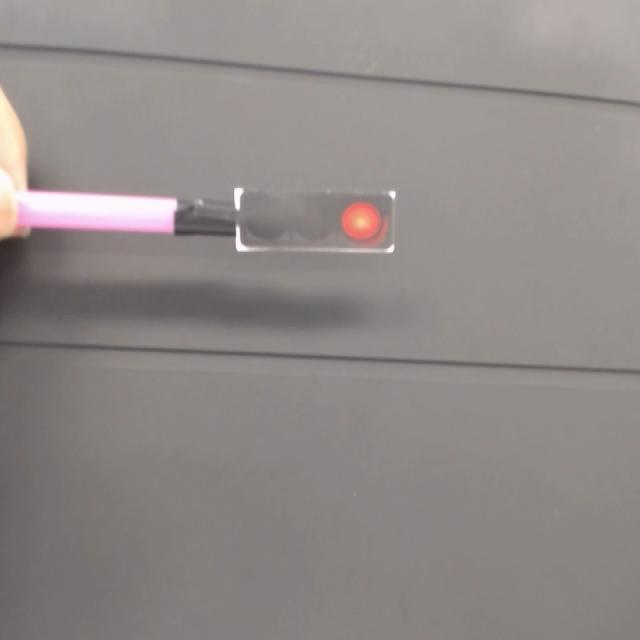traffic light: (233, 187, 399, 257)
